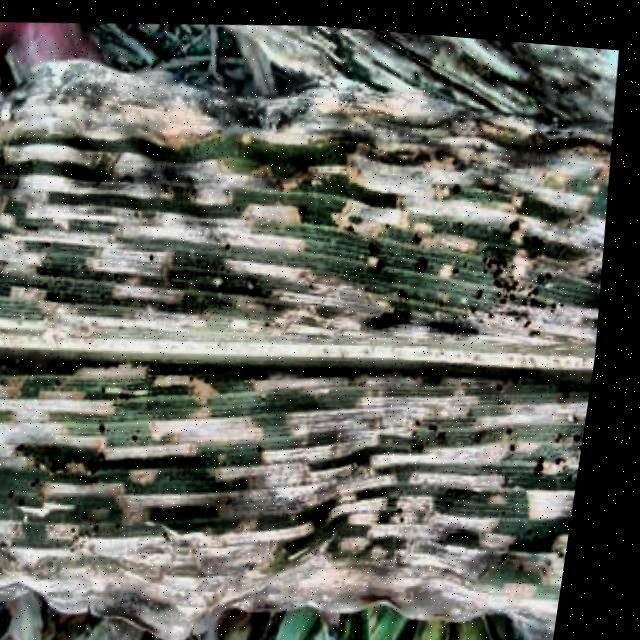gray_spot: (0, 61, 631, 640)
